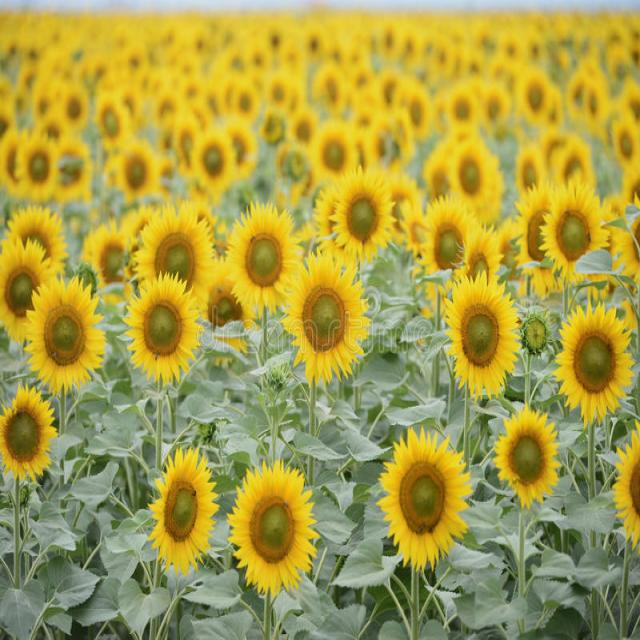sunflower: (375, 425, 479, 572), (274, 248, 384, 380), (222, 448, 318, 599), (428, 274, 532, 396), (121, 203, 220, 325), (551, 296, 639, 433), (17, 265, 108, 389), (118, 266, 205, 386), (225, 199, 305, 322), (147, 444, 216, 578), (540, 170, 612, 287), (489, 406, 561, 515), (322, 166, 392, 272), (0, 387, 58, 491), (415, 190, 471, 296), (185, 120, 238, 198), (444, 138, 498, 210), (111, 133, 161, 203), (18, 135, 67, 204), (310, 120, 354, 183), (518, 70, 553, 129), (442, 84, 484, 132)
